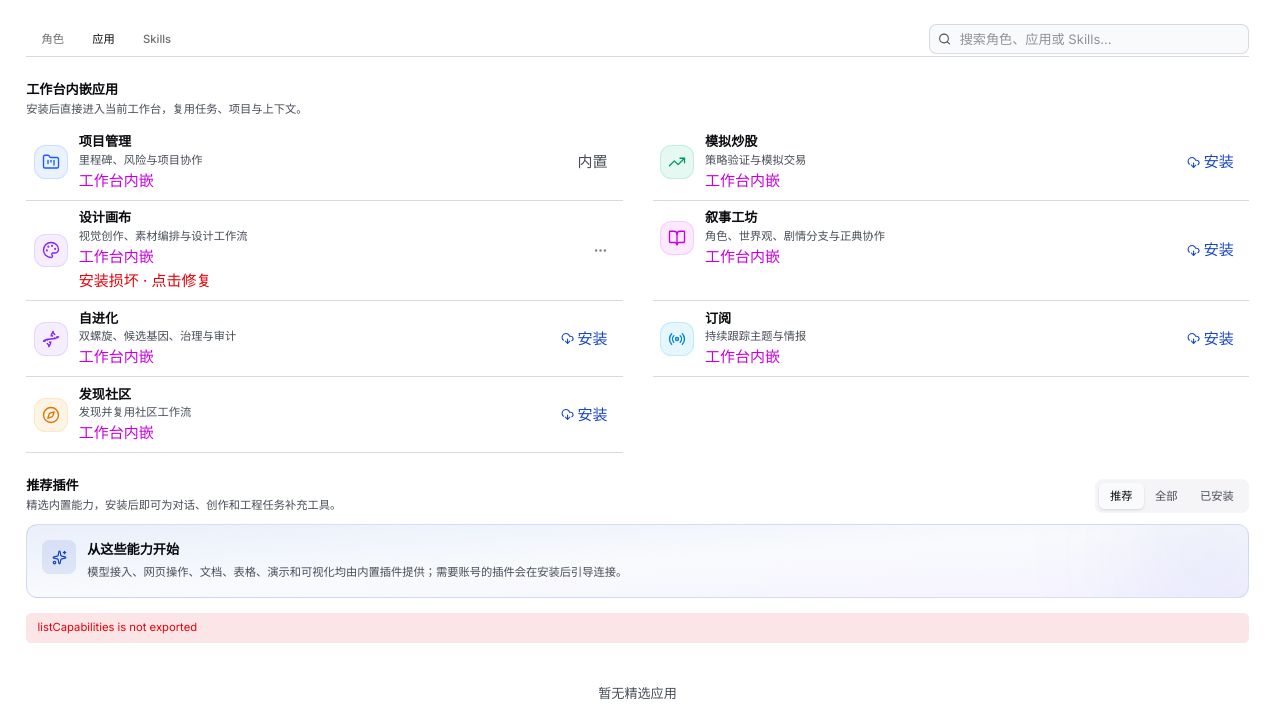
Test: HUB market shell › shows repair and rollback controls for a broken workbench package
Check: the text "安装损坏 · 点击修复" is shown, box [79,271,212,290]
Click the button named "设计画布添加到侧栏" at (600, 250), box [585,235,615,265]
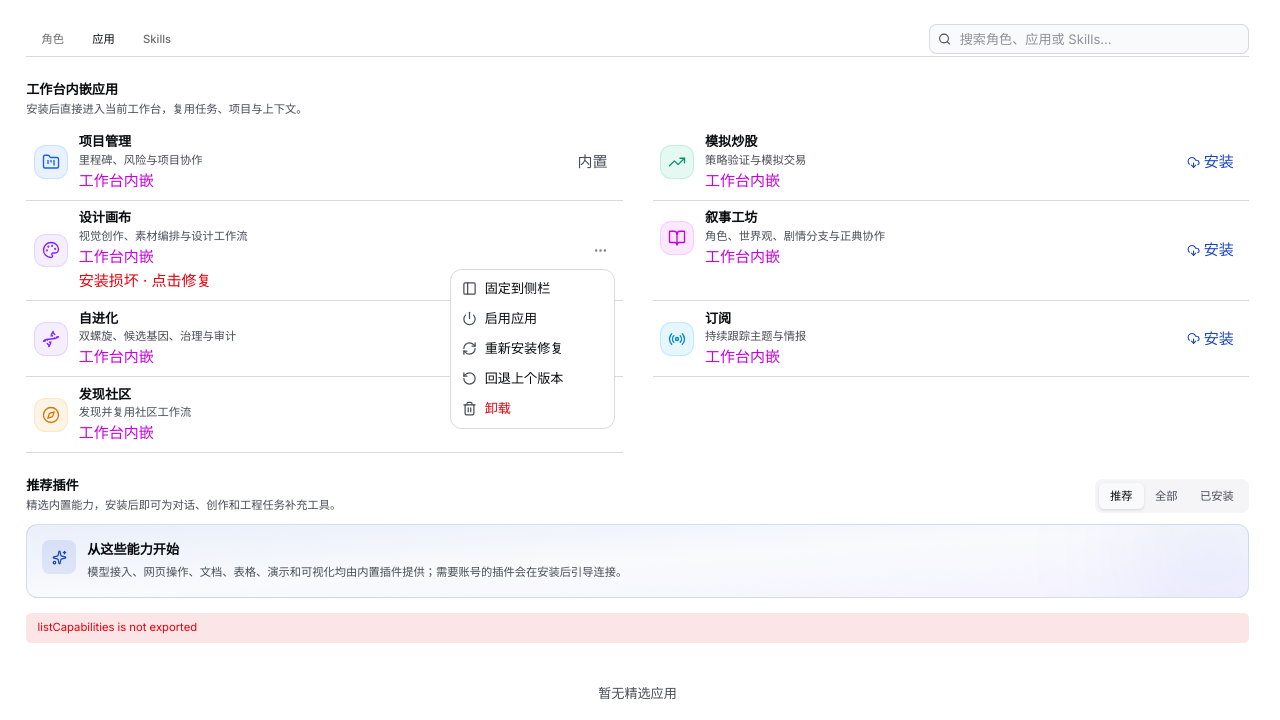
Check: the menu item "重新安装修复" is shown, box [462,340,564,356]
Check: the menu item "回退上个版本" is shown, box [462,370,564,386]
